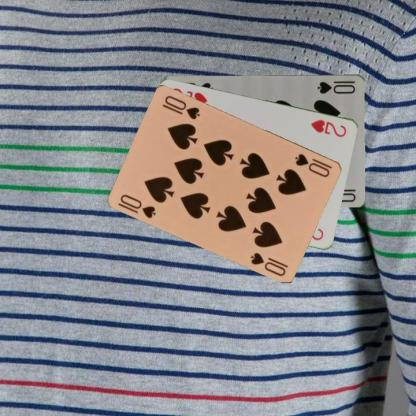10s: (118, 191, 158, 220), (292, 151, 334, 178), (315, 78, 357, 95)
2h: (308, 117, 348, 138)
